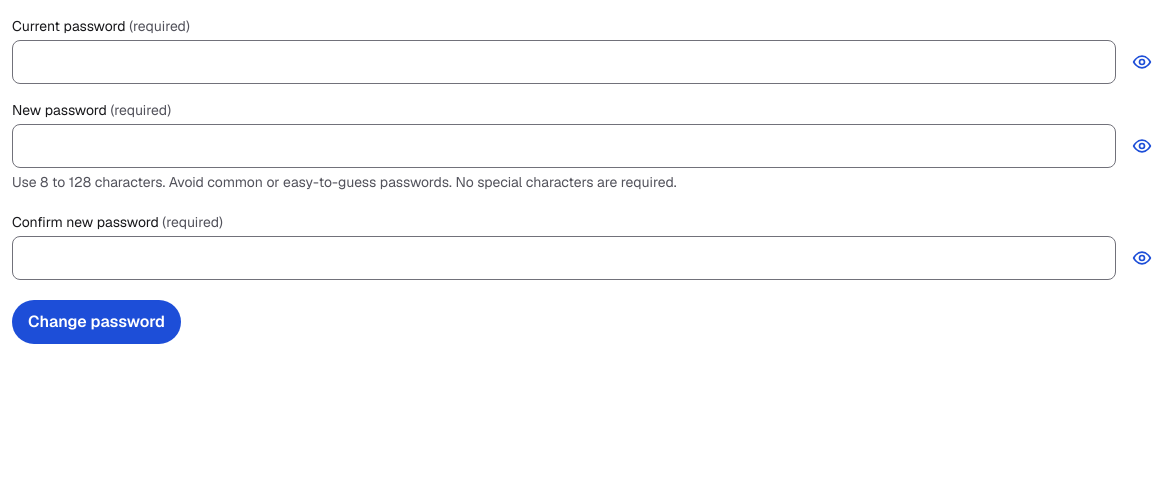
Scenario: ChangePasswordForm interactions › mismatch hint is non-blocking: appears only when confirm differs, and the form still posts
Step 1. Type "abcdefgh1" into the password field labelled "New password (required)" → point(564, 146), box [12,124,1116,168]
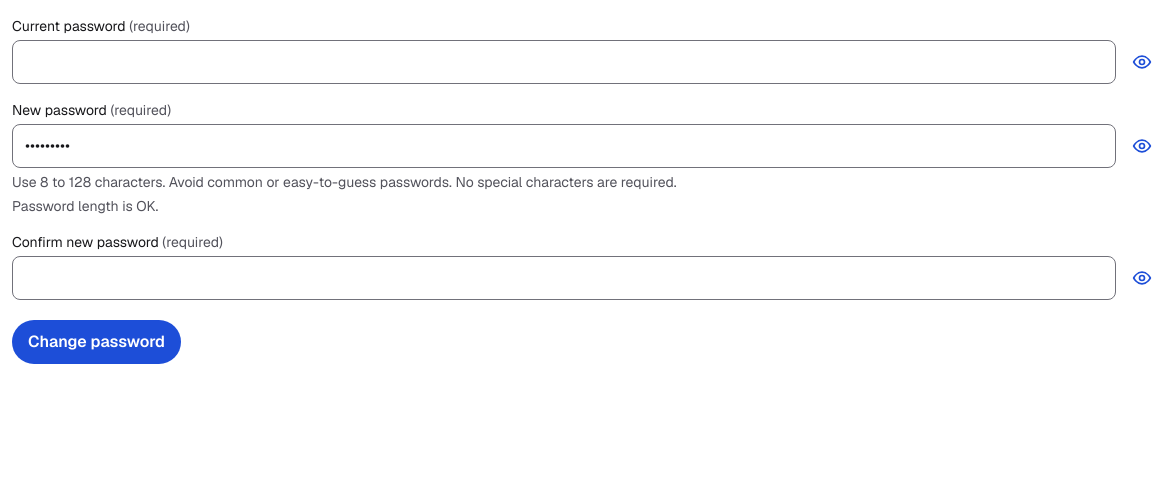
Step 2. Type "abcdefgh" into the password field labelled "Confirm new password (required)" → point(564, 278), box [12,256,1116,300]
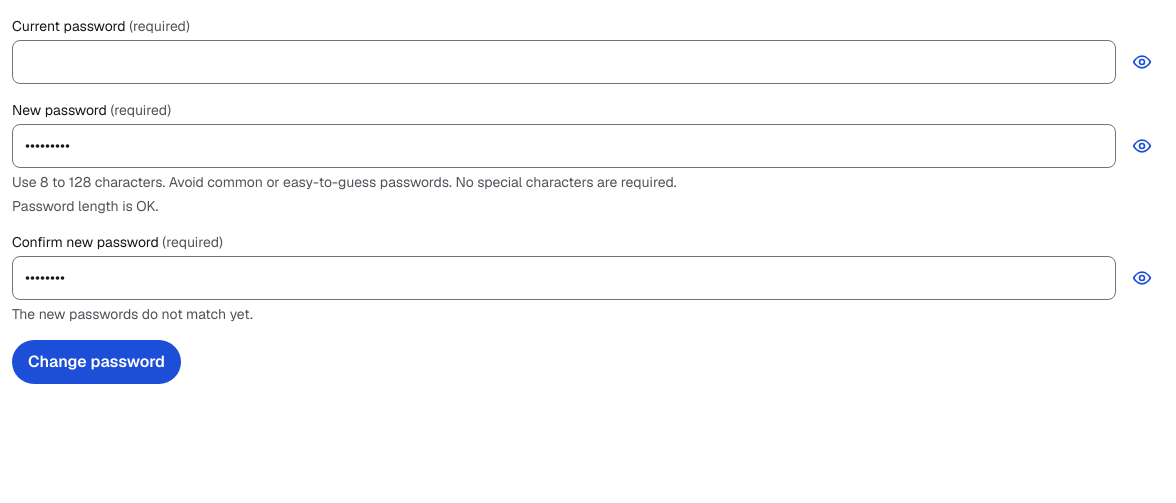
Expected: the text with test id "confirm-mismatch-hint" reads "The new passwords do not match yet.", [12,305,253,323]
Step 3. Type "abcdefgh1" into the password field labelled "Confirm new password (required)" → point(564, 278), box [12,256,1116,300]
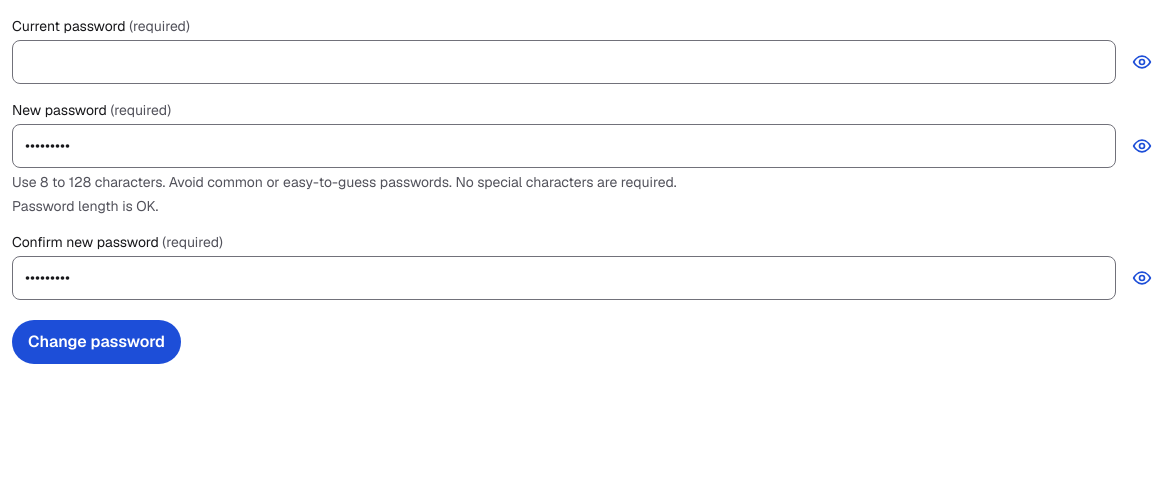
Step 4. Type "abcdefgh12" into the password field labelled "New password (required)" → point(564, 146), box [12,124,1116,168]
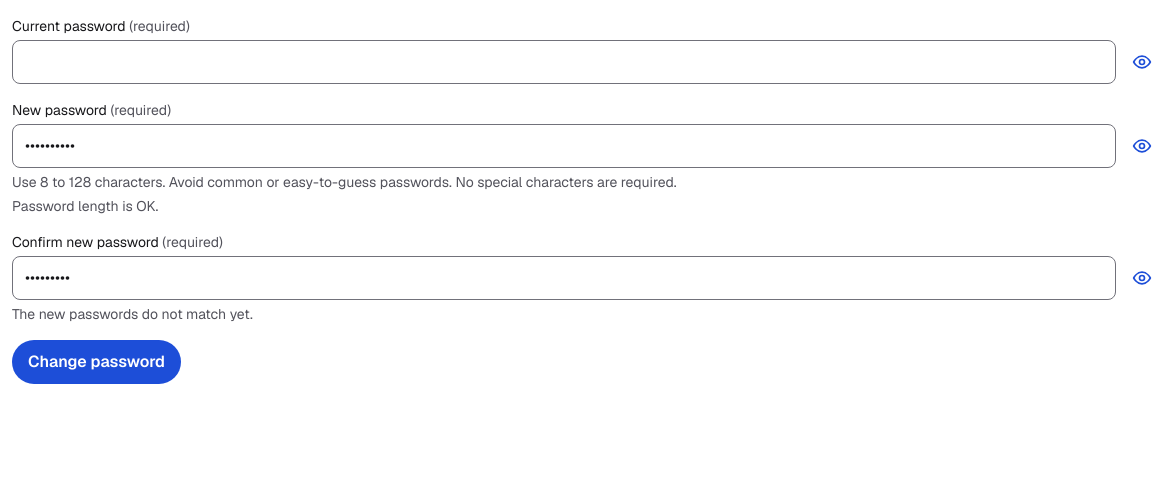
Expected: the submit button is enabled, [12,340,181,384]
Expected: the text with test id "confirm-mismatch-hint" reads "The new passwords do not match yet.", [12,305,253,323]
Step 5. Submit the form
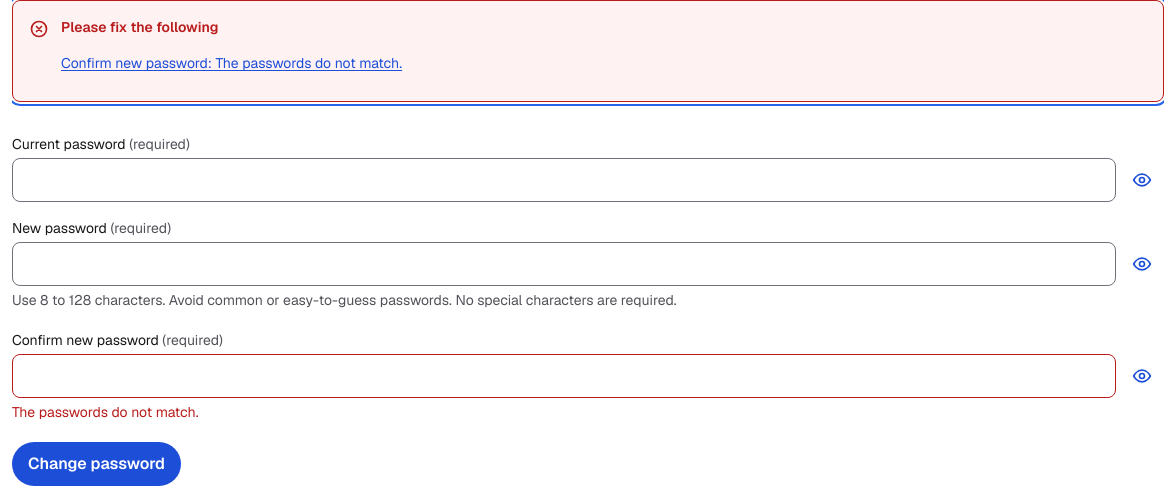
Expected: the message "Please fix the following Confirm new password: The passwords do not match." is shown, [12,0,1164,102]
